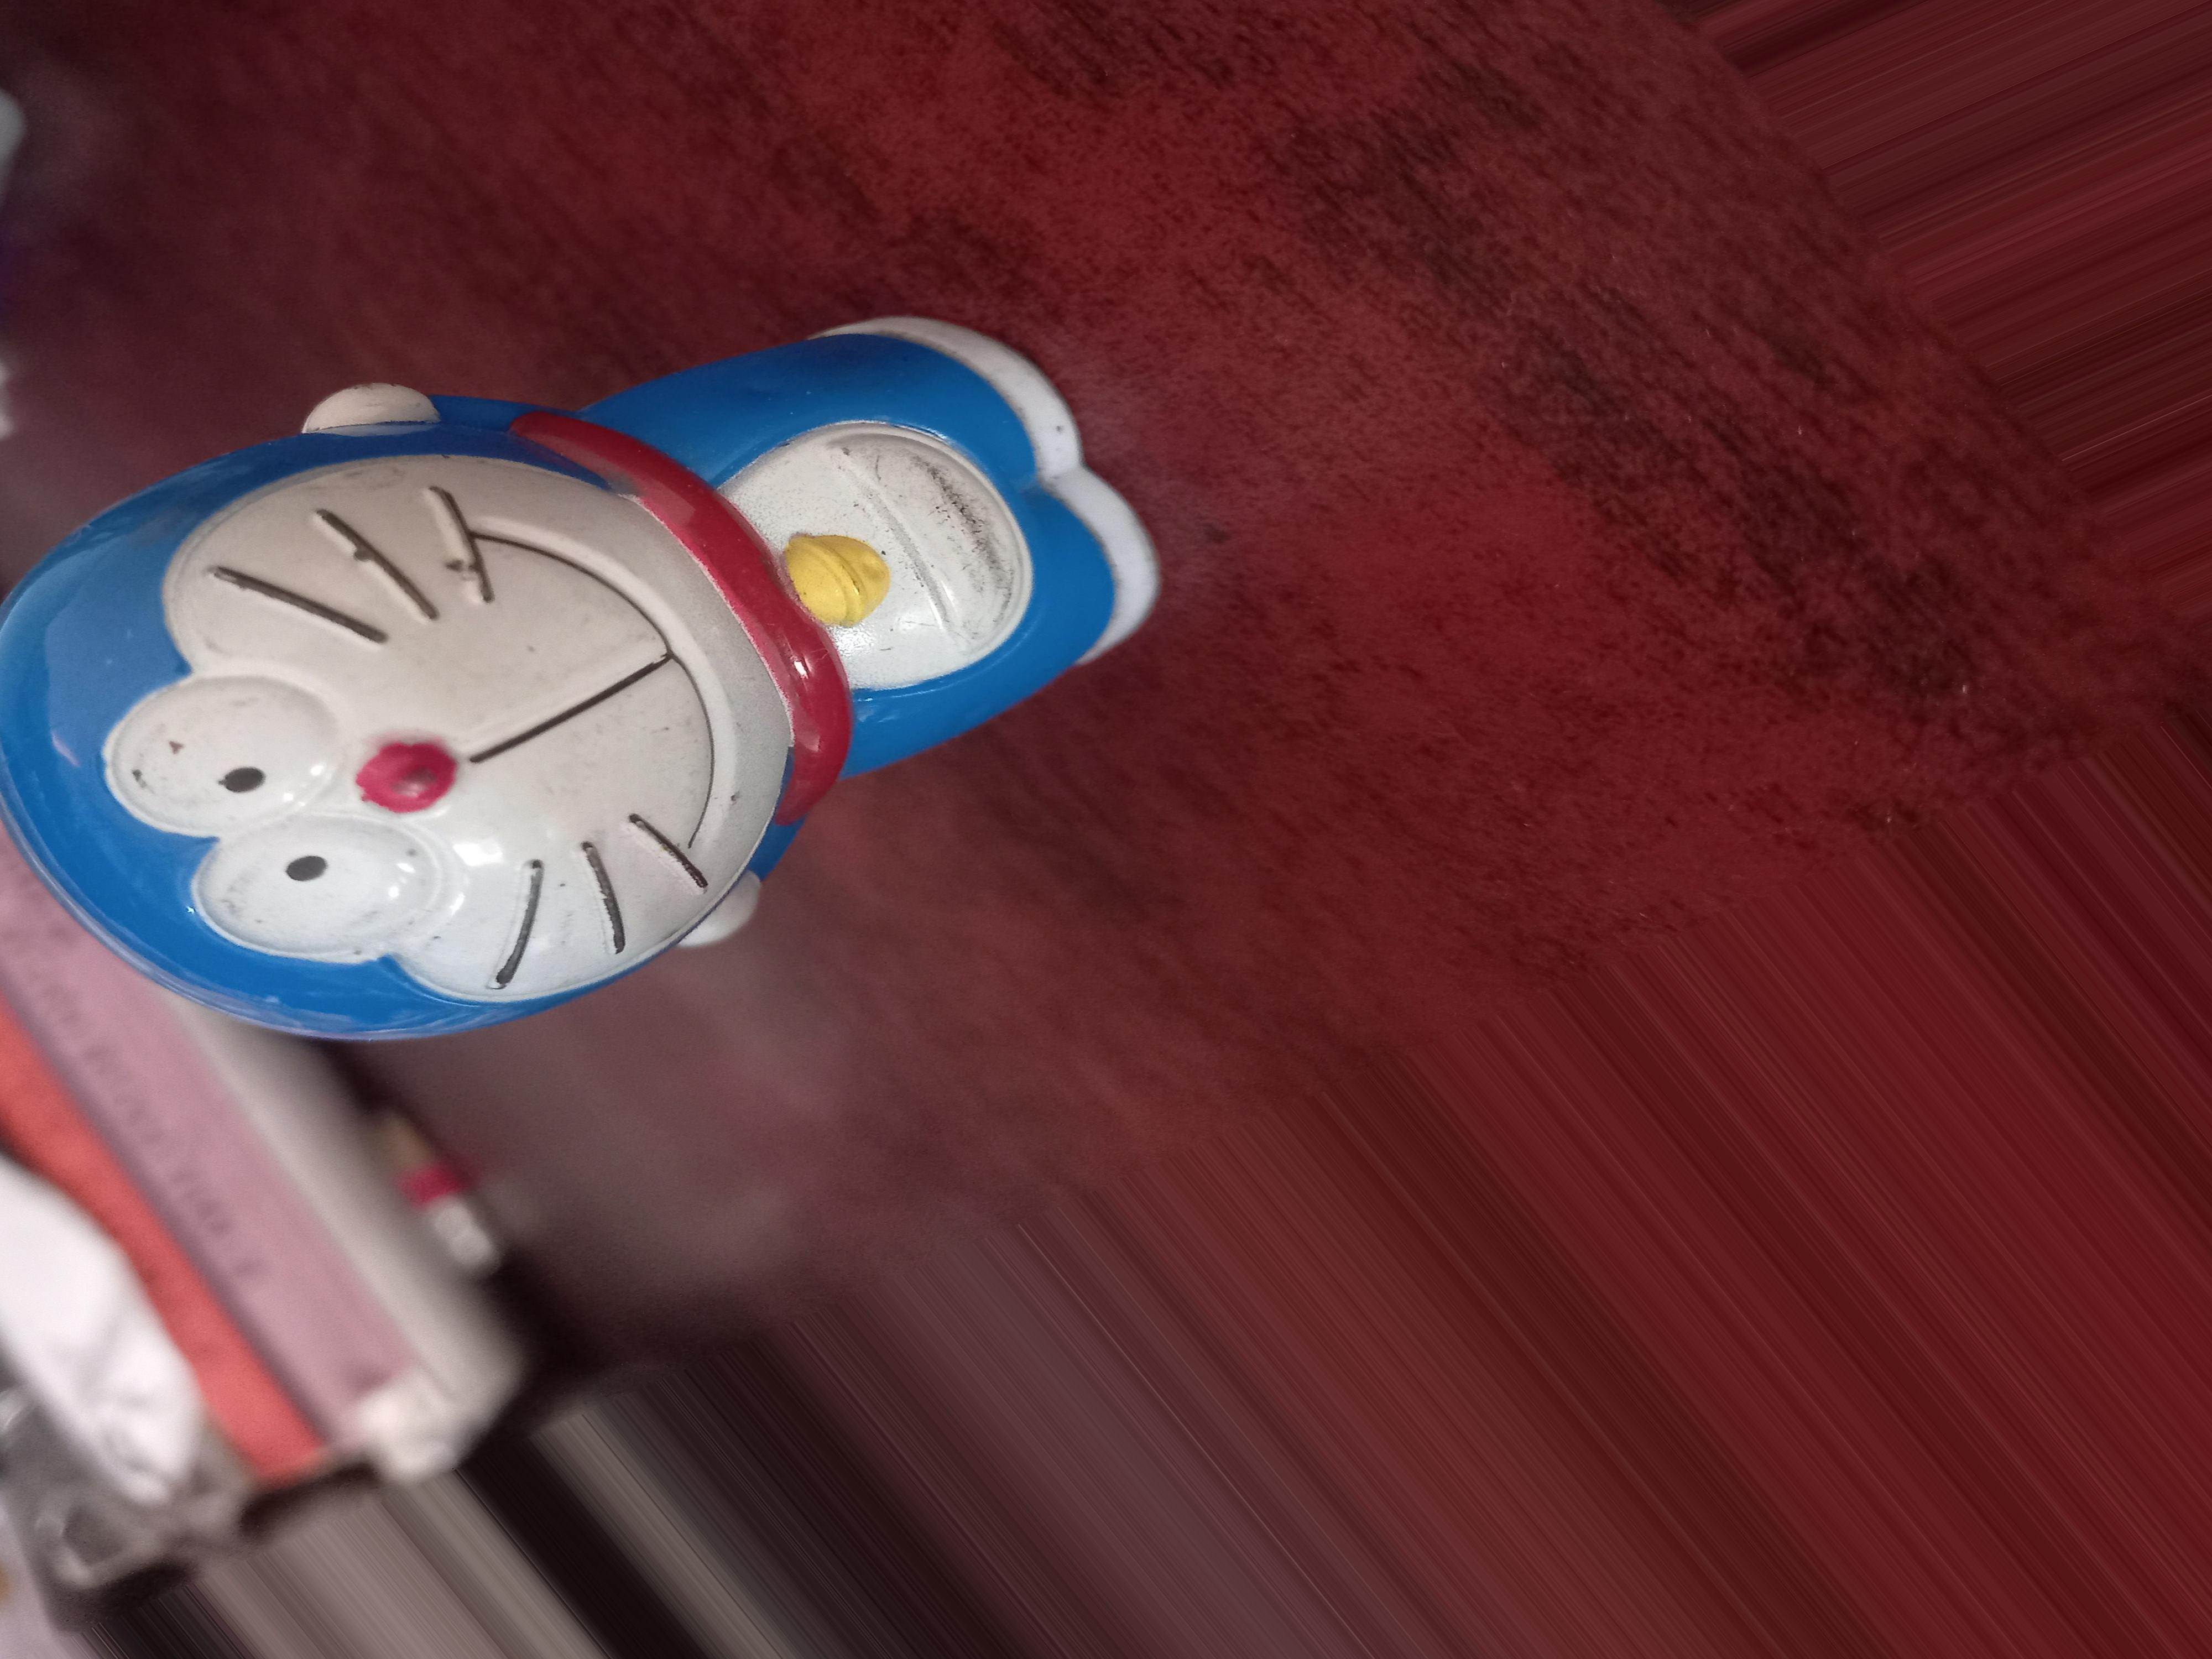doraemon: (0, 338, 1115, 1004)
